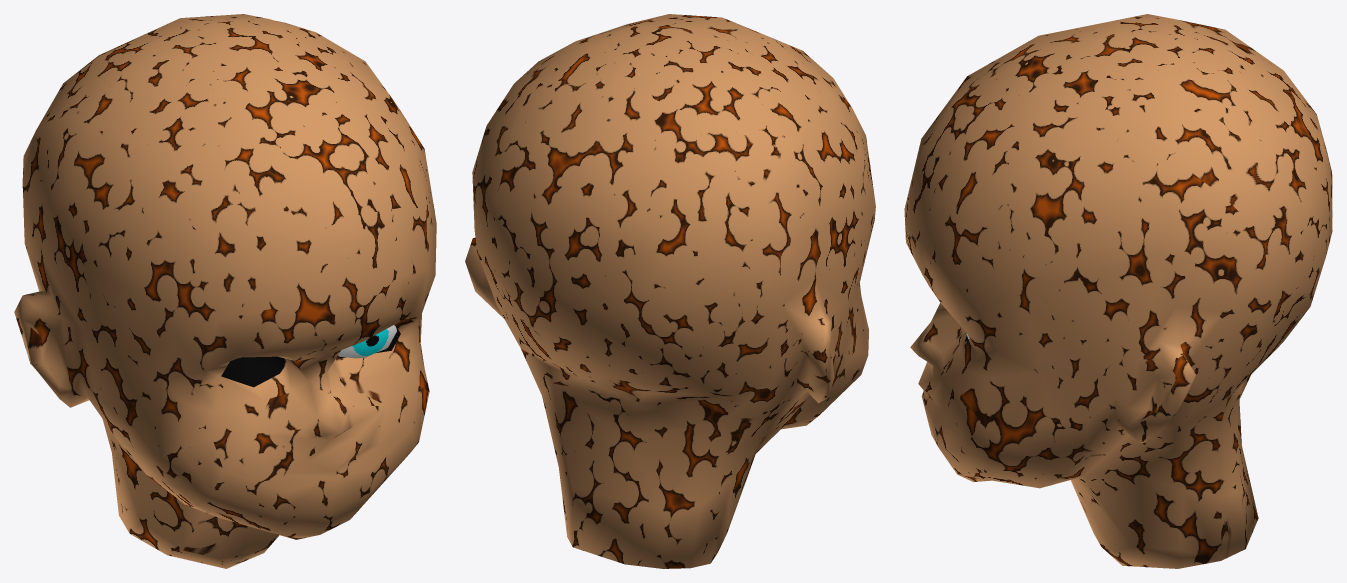
Rendered from Kepala Boneka.fbx.
3 views of the same model, side by side, from view 1: azimuth 30°, elevation 25°; view 2: azimuth 150°, elevation 25°; view 3: azimuth 270°, elevation 25° (orthographic). The views are drawn at different scales.
Parts seen in each view (by area): view 1: Kepala Boneka; view 2: Kepala Boneka; view 3: Kepala Boneka.
Part boxes in pixels (bbox=[...]): Kepala Boneka: bbox=[14, 14, 436, 568]; Kepala Boneka: bbox=[465, 14, 875, 568]; Kepala Boneka: bbox=[904, 14, 1332, 568].
Size of the model in its own units: 0.3509 by 0.475 by 0.3558.
